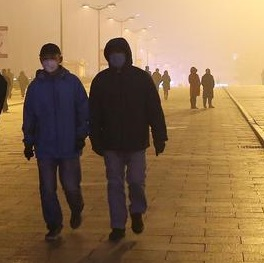person: (89, 35, 170, 243), (20, 41, 91, 239), (1, 67, 13, 114), (202, 68, 215, 109), (188, 67, 200, 109), (161, 69, 172, 101), (17, 69, 29, 97), (152, 67, 162, 88)
